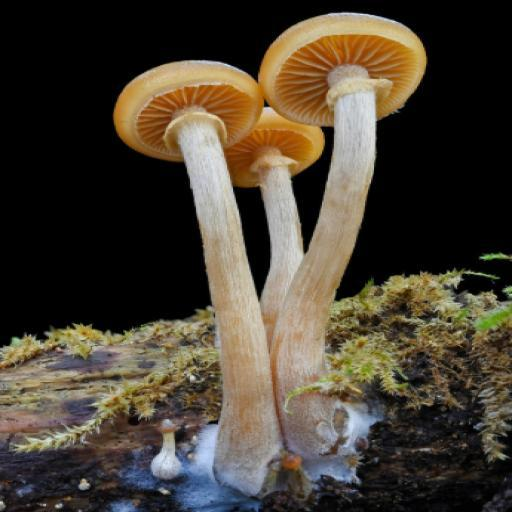mushroom: (100, 5, 460, 333)
